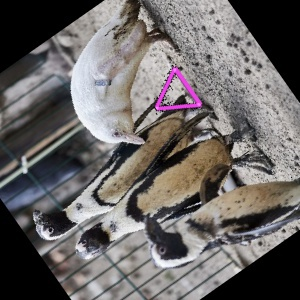triangle: (152, 64, 203, 111)
